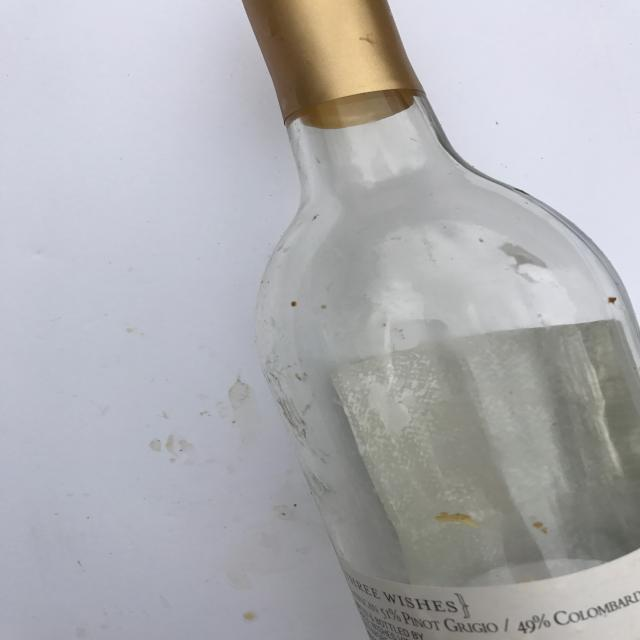glass: (231, 2, 640, 640)
